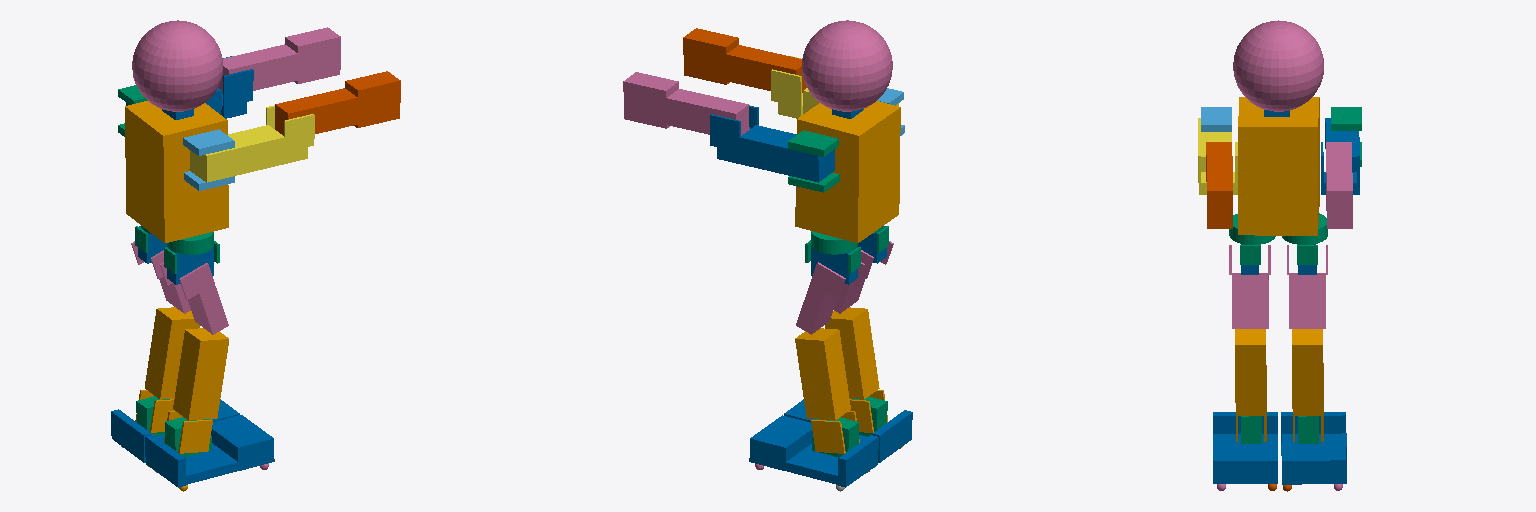
--- What the picture shows (computed from the rendered views, not written in the file) ---
3 views of the same robot in one strip: view 1: azimuth 30°, elevation 25°; view 2: azimuth 150°, elevation 25°; view 3: azimuth 270°, elevation 25° (orthographic).
Model [local-path]/NUgus.urdf with 55 links and 54 joints (20 revolute, 20 continuous, 14 fixed), rooted at base_link, posed every joint at zero.
Visible links, largest first — view 1: base_link, head, right_lower_leg, right_foot [foot], right_lower_arm [arm], right_upper_arm [arm], left_lower_arm [arm], left_lower_leg, right_upper_leg, left_upper_arm [arm], left_foot [foot], right_shoulder [arm] (+5 smaller); view 2: base_link, head, left_lower_leg, left_foot [foot], left_lower_arm [arm], left_upper_arm [arm], right_lower_arm [arm], right_lower_leg, left_upper_leg, right_upper_arm [arm], right_foot [foot], left_shoulder [arm] (+4 smaller); view 3: base_link, head, left_foot [foot], right_foot [foot], left_lower_leg, right_lower_leg, left_lower_arm [arm], right_lower_arm [arm], right_upper_leg, left_upper_leg, left_upper_arm [arm], right_upper_arm [arm] (+6 smaller).
Boxes of the visible links, x1=… form: base_link: x1=125, y1=101, x2=228, y2=242; head: x1=132, y1=20, x2=222, y2=111; right_lower_leg: x1=164, y1=328, x2=228, y2=453; right_foot [foot]: x1=145, y1=415, x2=274, y2=487; right_lower_arm [arm]: x1=275, y1=71, x2=400, y2=135; right_upper_arm [arm]: x1=189, y1=105, x2=314, y2=182; left_lower_arm [arm]: x1=218, y1=27, x2=340, y2=92; left_lower_leg: x1=135, y1=307, x2=199, y2=432; right_upper_leg: x1=160, y1=262, x2=228, y2=334; left_upper_arm [arm]: x1=126, y1=56, x2=253, y2=118; left_foot [foot]: x1=111, y1=399, x2=239, y2=462; right_shoulder [arm]: x1=183, y1=129, x2=234, y2=190; base_link: x1=795, y1=101, x2=900, y2=242; head: x1=802, y1=20, x2=892, y2=111; left_lower_leg: x1=795, y1=328, x2=859, y2=453; left_foot [foot]: x1=749, y1=415, x2=878, y2=487; left_lower_arm [arm]: x1=623, y1=72, x2=749, y2=135; left_upper_arm [arm]: x1=710, y1=105, x2=834, y2=182; right_lower_arm [arm]: x1=683, y1=28, x2=806, y2=92; right_lower_leg: x1=825, y1=307, x2=887, y2=432; left_upper_leg: x1=796, y1=262, x2=864, y2=334; right_upper_arm [arm]: x1=771, y1=56, x2=898, y2=118; right_foot [foot]: x1=784, y1=399, x2=912, y2=462; left_shoulder [arm]: x1=788, y1=130, x2=839, y2=192; base_link: x1=1238, y1=97, x2=1319, y2=235; head: x1=1233, y1=20, x2=1323, y2=111; left_foot [foot]: x1=1281, y1=412, x2=1346, y2=484; right_foot [foot]: x1=1213, y1=412, x2=1277, y2=483; left_lower_leg: x1=1292, y1=329, x2=1323, y2=441; right_lower_leg: x1=1235, y1=329, x2=1266, y2=441; left_lower_arm [arm]: x1=1326, y1=142, x2=1352, y2=228; right_lower_arm [arm]: x1=1206, y1=142, x2=1232, y2=228; right_upper_leg: x1=1229, y1=245, x2=1270, y2=328; left_upper_leg: x1=1287, y1=245, x2=1327, y2=328; left_upper_arm [arm]: x1=1321, y1=118, x2=1359, y2=194; right_upper_arm [arm]: x1=1198, y1=118, x2=1237, y2=194.
Size in the robot's own frame: 0.5037 by 0.3151 by 0.9331 metres.
Geometry: primitives only (box / cylinder / sphere), no mesh files.

robot.urdf — [local-path]/NUgus.urdf:
<?xml version="1.0"?>
<robot name="[local-path]/NUgus.urdf" xmlns:xacro="http://ros.org/wiki/xacro">
  <link name="base_link">
    <visual>
      <origin xyz="-0.001241 0.000021 0.115538" rpy="3.141281 0.014529 3.12021"/>
      <geometry>
        <box size="0.140936 0.154 0.229"/>
      </geometry>
    </visual>
    <collision>
      <origin xyz="-0.001241 0.000021 0.115538" rpy="3.141281 0.014529 3.12021"/>
      <geometry>
        <box size="0.140936 0.154 0.229"/>
      </geometry>
    </collision>
  </link>
  <link name="gyroscope">
  </link>
  <joint name="base_link_gyroscope_joint" type="fixed">
    <parent link="base_link"/>
    <child link="gyroscope"/>
    <origin xyz="0 0 0.2" rpy="0 0 0"/>
  </joint>
  <link name="accelerometer">
  </link>
  <joint name="base_link_accelerometer_joint" type="fixed">
    <parent link="base_link"/>
    <child link="accelerometer"/>
    <origin xyz="0 0 0.2" rpy="0 0 0"/>
  </joint>
  <joint name="neck_yaw" type="revolute">
    <parent link="base_link"/>
    <child link="start_point_212"/>
    <axis xyz="0 0 1"/>
    <limit effort="7.3" lower="-3.14159" upper="3.14159" velocity="8.17"/>
    <origin xyz="0 0 0.26" rpy="0 0 0"/>
  </joint>
  <link name="start_point_212">
  </link>
  <joint name="hingejoint" type="continuous">
    <parent link="start_point_212"/>
    <child link="neck"/>
    <axis xyz="0 0 1"/>
    <origin xyz="0 0 0" rpy="0 0 1.577182"/>
  </joint>
  <link name="neck">
    <visual>
      <origin xyz="-0.002854 -0.000008 -0.017064" rpy="0 0 -1.570796"/>
      <geometry>
        <box size="0.040829 0.050604 0.062673"/>
      </geometry>
    </visual>
    <collision>
      <origin xyz="-0.002854 -0.000008 -0.017064" rpy="0 0 -1.570796"/>
      <geometry>
        <box size="0.040829 0.050604 0.062673"/>
      </geometry>
    </collision>
  </link>
  <joint name="head_pitch" type="revolute">
    <parent link="neck"/>
    <child link="start_point_211"/>
    <axis xyz="1 0 0"/>
    <limit effort="7.3" lower="-3.14159" upper="3.14159" velocity="8.17"/>
    <origin xyz="0 0 0" rpy="0 0 0"/>
  </joint>
  <link name="start_point_211">
  </link>
  <joint name="hingejoint_0" type="continuous">
    <parent link="start_point_211"/>
    <child link="head"/>
    <axis xyz="1 0 0"/>
    <origin xyz="0 0 0" rpy="0.006458 0 0"/>
  </joint>
  <link name="head">
    <visual>
      <origin xyz="0 0 0.069" rpy="0 0 0"/>
      <geometry>
        <sphere radius="0.088"/>
      </geometry>
    </visual>
    <collision>
      <origin xyz="0 0 0.069" rpy="0 0 0"/>
      <geometry>
        <sphere radius="0.088"/>
      </geometry>
    </collision>
  </link>
  <link name="right_camera">
  </link>
  <joint name="head_right_camera_joint" type="fixed">
    <parent link="head"/>
    <child link="right_camera"/>
    <origin xyz="-0.035299 -0.088936 0.071368" rpy="1.585655 -0.048371 -3.125012"/>
  </joint>
  <link name="left_camera">
  </link>
  <joint name="head_left_camera_joint" type="fixed">
    <parent link="head"/>
    <child link="left_camera"/>
    <origin xyz="0.0353 -0.088936 0.071368" rpy="1.585655 -0.048371 -3.125012"/>
  </joint>
  <joint name="left_hip_yaw" type="revolute">
    <parent link="base_link"/>
    <child link="start_point_210"/>
    <axis xyz="0 0 1"/>
    <limit effort="10" lower="-3.14159" upper="3.14159" velocity="5.76"/>
    <origin xyz="0 0.055 0" rpy="0 0 0"/>
  </joint>
  <link name="start_point_210">
  </link>
  <joint name="hingejoint_1" type="continuous">
    <parent link="start_point_210"/>
    <child link="left_hip_yaw"/>
    <axis xyz="0 0 1"/>
    <origin xyz="0 0 0" rpy="0 0 1.571668"/>
  </joint>
  <link name="left_hip_yaw">
    <visual>
      <origin xyz="-0.005 0 -0.015" rpy="3.141593 0 0"/>
      <geometry>
        <cylinder radius="0.045" length="0.03"/>
      </geometry>
    </visual>
    <collision>
      <origin xyz="-0.005 0 -0.015" rpy="3.141593 0 0"/>
      <geometry>
        <cylinder radius="0.045" length="0.03"/>
      </geometry>
    </collision>
    <visual>
      <origin xyz="0 0.0475 -0.05" rpy="0 0 0"/>
      <geometry>
        <box size="0.04 0.005 0.04"/>
      </geometry>
    </visual>
    <collision>
      <origin xyz="0 0.0475 -0.05" rpy="0 0 0"/>
      <geometry>
        <box size="0.04 0.005 0.04"/>
      </geometry>
    </collision>
    <visual>
      <origin xyz="0 -0.0475 -0.05" rpy="0 0 0"/>
      <geometry>
        <box size="0.04 0.005 0.04"/>
      </geometry>
    </visual>
    <collision>
      <origin xyz="0 -0.0475 -0.05" rpy="0 0 0"/>
      <geometry>
        <box size="0.04 0.005 0.04"/>
      </geometry>
    </collision>
  </link>
  <joint name="left_hip_roll [hip]" type="revolute">
    <parent link="left_hip_yaw"/>
    <child link="start_point_206"/>
    <axis xyz="0 -1 0"/>
    <limit effort="10" lower="-3.14159" upper="3.14159" velocity="5.76"/>
    <origin xyz="0 0 -0.06" rpy="0 0 0"/>
  </joint>
  <link name="start_point_206">
  </link>
  <joint name="hingejoint_2" type="continuous">
    <parent link="start_point_206"/>
    <child link="left_hip_roll"/>
    <axis xyz="0 -1 0"/>
    <origin xyz="0 0 0" rpy="0 -0.004548 0"/>
  </joint>
  <link name="left_hip_roll">
    <visual>
      <origin xyz="0 0.0025 -0.0025" rpy="0 0 0"/>
      <geometry>
        <box size="0.035 0.085 0.065"/>
      </geometry>
    </visual>
    <collision>
      <origin xyz="0 0.0025 -0.0025" rpy="0 0 0"/>
      <geometry>
        <box size="0.035 0.085 0.065"/>
      </geometry>
    </collision>
  </link>
  <joint name="left_hip_pitch" type="revolute">
    <parent link="left_hip_roll"/>
    <child link="start_point_209"/>
    <axis xyz="1 0 0"/>
    <limit effort="10" lower="-3.14159" upper="3.14159" velocity="5.76"/>
    <origin xyz="0 -0.01 0.005" rpy="0 0 0"/>
  </joint>
  <link name="start_point_209">
  </link>
  <joint name="hingejoint_3" type="continuous">
    <parent link="start_point_209"/>
    <child link="left_upper_leg"/>
    <axis xyz="1 0 0"/>
    <origin xyz="0 0 0" rpy="-0.055609 0 0"/>
  </joint>
  <link name="left_upper_leg">
    <visual>
      <origin xyz="0 -0.01345 -0.102006" rpy="-0.261799 0 0"/>
      <geometry>
        <box size="0.07 0.037 0.104"/>
      </geometry>
    </visual>
    <collision>
      <origin xyz="0 -0.01345 -0.102006" rpy="-0.261799 0 0"/>
      <geometry>
        <box size="0.07 0.037 0.104"/>
      </geometry>
    </collision>
    <visual>
      <origin xyz="-0.0375 0.021645 -0.031572" rpy="-0.261799 0 0"/>
      <geometry>
        <box size="0.005 0.065 0.05"/>
      </geometry>
    </visual>
    <collision>
      <origin xyz="-0.0375 0.021645 -0.031572" rpy="-0.261799 0 0"/>
      <geometry>
        <box size="0.005 0.065 0.05"/>
      </geometry>
    </collision>
    <visual>
      <origin xyz="0.0375 0.021645 -0.031572" rpy="-0.261799 0 0"/>
      <geometry>
        <box size="0.005 0.065 0.05"/>
      </geometry>
    </visual>
    <collision>
      <origin xyz="0.0375 0.021645 -0.031572" rpy="-0.261799 0 0"/>
      <geometry>
        <box size="0.005 0.065 0.05"/>
      </geometry>
    </collision>
  </link>
  <joint name="left_knee_pitch" type="revolute">
    <parent link="left_upper_leg"/>
    <child link="start_point_208"/>
    <axis xyz="1 0 0"/>
    <limit effort="10" lower="-3.14159" upper="3.14159" velocity="5.76"/>
    <origin xyz="0 0.00924 -0.184766" rpy="0 0 0"/>
  </joint>
  <link name="start_point_208">
  </link>
  <joint name="hingejoint_4" type="continuous">
    <parent link="start_point_208"/>
    <child link="left_lower_leg"/>
    <axis xyz="1 0 0"/>
    <origin xyz="0 0 0" rpy="0.04297 0 0"/>
  </joint>
  <link name="left_lower_leg">
    <visual>
      <origin xyz="0 -0.00999 -0.067253" rpy="0.174533 0 0"/>
      <geometry>
        <box size="0.06 0.065 0.165"/>
      </geometry>
    </visual>
    <collision>
      <origin xyz="0 -0.00999 -0.067253" rpy="0.174533 0 0"/>
      <geometry>
        <box size="0.06 0.065 0.165"/>
      </geometry>
    </collision>
    <visual>
      <origin xyz="-0.0275 0.01951 -0.182253" rpy="0.174533 0 0"/>
      <geometry>
        <box size="0.005 0.065 0.065"/>
      </geometry>
    </visual>
    <collision>
      <origin xyz="-0.0275 0.01951 -0.182253" rpy="0.174533 0 0"/>
      <geometry>
        <box size="0.005 0.065 0.065"/>
      </geometry>
    </collision>
    <visual>
      <origin xyz="0.0275 0.01951 -0.182253" rpy="0.174533 0 0"/>
      <geometry>
        <box size="0.005 0.065 0.065"/>
      </geometry>
    </visual>
    <collision>
      <origin xyz="0.0275 0.01951 -0.182253" rpy="0.174533 0 0"/>
      <geometry>
        <box size="0.005 0.065 0.065"/>
      </geometry>
    </collision>
  </link>
  <joint name="left_ankle_pitch" type="revolute">
    <parent link="left_lower_leg"/>
    <child link="start_point_203"/>
    <axis xyz="1 0 0"/>
    <limit effort="10" lower="-3.14159" upper="3.14159" velocity="5.76"/>
    <origin xyz="0 0.00001 -0.209753" rpy="0 0 0"/>
  </joint>
  <link name="start_point_203">
  </link>
  <joint name="hingejoint_5" type="continuous">
    <parent link="start_point_203"/>
    <child link="left_ankle"/>
    <axis xyz="-1 -0.000002 0"/>
    <origin xyz="0 0 0" rpy="-3.136309 0 -3.141591"/>
  </joint>
  <link name="left_ankle">
    <visual>
      <origin xyz="0 0.02 -0.0175" rpy="0 0 0"/>
      <geometry>
        <box size="0.04 0.08 0.065"/>
      </geometry>
    </visual>
    <collision>
      <origin xyz="0 0.02 -0.0175" rpy="0 0 0"/>
      <geometry>
        <box size="0.04 0.08 0.065"/>
      </geometry>
    </collision>
  </link>
  <joint name="left_ankle_roll" type="revolute">
    <parent link="left_ankle"/>
    <child link="start_point_202"/>
    <axis xyz="0 -1 0"/>
    <limit effort="10" lower="-3.14159" upper="3.14159" velocity="5.76"/>
    <origin xyz="0 0.04 0" rpy="0 0.000001 0"/>
  </joint>
  <link name="start_point_202">
  </link>
  <joint name="hingejoint_6" type="continuous">
    <parent link="start_point_202"/>
    <child link="left_foot [foot]"/>
    <axis xyz="0.000002 -1 0.000002"/>
    <origin xyz="0 0 0" rpy="-3.141591 0.004152 -3.141591"/>
  </joint>
  <link name="left_foot [foot]">
    <visual>
      <origin xyz="0.0105 0.037 -0.017" rpy="0 0 0"/>
      <geometry>
        <box size="0.125 0.0175 0.0585"/>
      </geometry>
    </visual>
    <collision>
      <origin xyz="0.0105 0.037 -0.017" rpy="0 0 0"/>
      <geometry>
        <box size="0.125 0.0175 0.0585"/>
      </geometry>
    </collision>
    <visual>
      <origin xyz="0.011 -0.128 -0.02" rpy="0 0 0"/>
      <geometry>
        <box size="0.125 0.08 0.05"/>
      </geometry>
    </visual>
    <collision>
      <origin xyz="0.011 -0.128 -0.02" rpy="0 0 0"/>
      <geometry>
        <box size="0.125 0.08 0.05"/>
      </geometry>
    </collision>
    <visual>
      <origin xyz="0.011 -0.028 -0.035" rpy="0 0 0"/>
      <geometry>
        <box size="0.125 0.12 0.01875"/>
      </geometry>
    </visual>
    <collision>
      <origin xyz="0.011 -0.028 -0.035" rpy="0 0 0"/>
      <geometry>
        <box size="0.125 0.12 0.01875"/>
      </geometry>
    </collision>
  </link>
  <link name="left_touch_sensor_fr">
    <visual>
      <origin xyz="0 0 0.0056" rpy="3.110796 0 0"/>
      <geometry>
        <cylinder radius="0.009" length="0.001"/>
      </geometry>
    </visual>
    <collision>
      <origin xyz="0 0 0.0056" rpy="3.110796 0 0"/>
      <geometry>
        <cylinder radius="0.009" length="0.001"/>
      </geometry>
    </collision>
    <visual>
      <origin xyz="0 0.000015 0.0061" rpy="3.110796 0 0"/>
      <geometry>
        <sphere radius="0.009"/>
      </geometry>
    </visual>
    <collision>
      <origin xyz="0 0.000015 0.0061" rpy="3.110796 0 0"/>
      <geometry>
        <sphere radius="0.009"/>
      </geometry>
    </collision>
    <visual>
      <origin xyz="0 -0.000015 0.0051" rpy="3.110796 0 0"/>
      <geometry>
        <sphere radius="0.009"/>
      </geometry>
    </visual>
    <collision>
      <origin xyz="0 -0.000015 0.0051" rpy="3.110796 0 0"/>
      <geometry>
        <sphere radius="0.009"/>
      </geometry>
    </collision>
  </link>
  <joint name="left_foot [foot]_left_touch_sensor_fr_joint" type="fixed">
    <parent link="left_foot [foot]"/>
    <child link="left_touch_sensor_fr"/>
    <origin xyz="-0.041 -0.154 -0.060997" rpy="0 0 0"/>
  </joint>
  <link name="left_touch_sensor_fl">
    <visual>
      <origin xyz="0 0 0.0056" rpy="3.110796 0 0"/>
      <geometry>
        <cylinder radius="0.009" length="0.001"/>
      </geometry>
    </visual>
    <collision>
      <origin xyz="0 0 0.0056" rpy="3.110796 0 0"/>
      <geometry>
        <cylinder radius="0.009" length="0.001"/>
      </geometry>
    </collision>
    <visual>
      <origin xyz="0 0.000015 0.0061" rpy="3.110796 0 0"/>
      <geometry>
        <sphere radius="0.009"/>
      </geometry>
    </visual>
    <collision>
      <origin xyz="0 0.000015 0.0061" rpy="3.110796 0 0"/>
      <geometry>
        <sphere radius="0.009"/>
      </geometry>
    </collision>
    <visual>
      <origin xyz="0 -0.000015 0.0051" rpy="3.110796 0 0"/>
      <geometry>
        <sphere radius="0.009"/>
      </geometry>
    </visual>
    <collision>
      <origin xyz="0 -0.000015 0.0051" rpy="3.110796 0 0"/>
      <geometry>
        <sphere radius="0.009"/>
      </geometry>
    </collision>
  </link>
  <joint name="left_foot [foot]_left_touch_sensor_fl_joint" type="fixed">
    <parent link="left_foot [foot]"/>
    <child link="left_touch_sensor_fl"/>
    <origin xyz="0.057001 -0.154 -0.060998" rpy="0 0 0"/>
  </joint>
  <link name="left_touch_sensor_bl">
    <visual>
      <origin xyz="0 0 0.0056" rpy="3.110796 0 0"/>
      <geometry>
        <cylinder radius="0.009" length="0.001"/>
      </geometry>
    </visual>
    <collision>
      <origin xyz="0 0 0.0056" rpy="3.110796 0 0"/>
      <geometry>
        <cylinder radius="0.009" length="0.001"/>
      </geometry>
    </collision>
    <visual>
      <origin xyz="0 0.000015 0.0061" rpy="3.110796 0 0"/>
      <geometry>
        <sphere radius="0.009"/>
      </geometry>
    </visual>
    <collision>
      <origin xyz="0 0.000015 0.0061" rpy="3.110796 0 0"/>
      <geometry>
        <sphere radius="0.009"/>
      </geometry>
    </collision>
    <visual>
      <origin xyz="0 -0.000015 0.0051" rpy="3.110796 0 0"/>
      <geometry>
        <sphere radius="0.009"/>
      </geometry>
    </visual>
    <collision>
      <origin xyz="0 -0.000015 0.0051" rpy="3.110796 0 0"/>
      <geometry>
        <sphere radius="0.009"/>
      </geometry>
    </collision>
  </link>
  <joint name="left_foot [foot]_left_touch_sensor_bl_joint" type="fixed">
    <parent link="left_foot [foot]"/>
    <child link="left_touch_sensor_bl"/>
    <origin xyz="0.057 0.024999 -0.060997" rpy="0 0 0"/>
  </joint>
  <link name="left_touch_sensor_br">
    <visual>
      <origin xyz="0 0 0.0056" rpy="3.110796 0 0"/>
      <geometry>
        <cylinder radius="0.009" length="0.001"/>
      </geometry>
    </visual>
    <collision>
      <origin xyz="0 0 0.0056" rpy="3.110796 0 0"/>
      <geometry>
        <cylinder radius="0.009" length="0.001"/>
      </geometry>
    </collision>
    <visual>
      <origin xyz="0 0.000015 0.0061" rpy="3.110796 0 0"/>
      <geometry>
        <sphere radius="0.009"/>
      </geometry>
    </visual>
    <collision>
      <origin xyz="0 0.000015 0.0061" rpy="3.110796 0 0"/>
      <geometry>
        <sphere radius="0.009"/>
      </geometry>
    </collision>
    <visual>
      <origin xyz="0 -0.000015 0.0051" rpy="3.110796 0 0"/>
      <geometry>
        <sphere radius="0.009"/>
      </geometry>
    </visual>
    <collision>
      <origin xyz="0 -0.000015 0.0051" rpy="3.110796 0 0"/>
      <geometry>
        <sphere radius="0.009"/>
      </geometry>
    </collision>
  </link>
  <joint name="left_foot [foot]_left_touch_sensor_br_joint" type="fixed">
    <parent link="left_foot [foot]"/>
    <child link="left_touch_sensor_br"/>
    <origin xyz="-0.041001 0.025 -0.060996" rpy="0 0 0"/>
  </joint>
  <joint name="right_hip_yaw" type="revolute">
    <parent link="base_link"/>
    <child link="start_point_207"/>
    <axis xyz="0 0 1"/>
    <limit effort="10" lower="-3.14159" upper="3.14159" velocity="5.76"/>
    <origin xyz="0 -0.055 0" rpy="0 0 0"/>
  </joint>
  <link name="start_point_207">
  </link>
  <joint name="hingejoint_7" type="continuous">
    <parent link="start_point_207"/>
    <child link="right_hip_yaw"/>
    <axis xyz="0 0 1"/>
    <origin xyz="0 0 0" rpy="0 0 1.571725"/>
  </joint>
  <link name="right_hip_yaw">
    <visual>
      <origin xyz="0.005 0 -0.015" rpy="3.141593 0 0"/>
      <geometry>
        <cylinder radius="0.045" length="0.03"/>
      </geometry>
    </visual>
    <collision>
      <origin xyz="0.005 0 -0.015" rpy="3.141593 0 0"/>
      <geometry>
        <cylinder radius="0.045" length="0.03"/>
      </geometry>
    </collision>
    <visual>
      <origin xyz="0 0.0475 -0.05" rpy="0 0 0"/>
      <geometry>
        <box size="0.04 0.005 0.04"/>
      </geometry>
    </visual>
    <collision>
      <origin xyz="0 0.0475 -0.05" rpy="0 0 0"/>
      <geometry>
        <box size="0.04 0.005 0.04"/>
      </geometry>
    </collision>
    <visual>
      <origin xyz="0 -0.0475 -0.05" rpy="0 0 0"/>
      <geometry>
        <box size="0.04 0.005 0.04"/>
      </geometry>
    </visual>
    <collision>
      <origin xyz="0 -0.0475 -0.05" rpy="0 0 0"/>
      <geometry>
        <box size="0.04 0.005 0.04"/>
      </geometry>
    </collision>
  </link>
  <joint name="right_hip_roll [hip]" type="revolute">
    <parent link="right_hip_yaw"/>
    <child link="start_point_206_8"/>
    <axis xyz="0 -1 0"/>
    <limit effort="10" lower="-3.14159" upper="3.14159" velocity="5.76"/>
    <origin xyz="0 0 -0.06" rpy="0 0 0"/>
  </joint>
  <link name="start_point_206_8">
  </link>
  <joint name="hingejoint_9" type="continuous">
    <parent link="start_point_206_8"/>
    <child link="right_hip_roll"/>
    <axis xyz="0 -1 0"/>
    <origin xyz="0 0 0" rpy="0 -0.005921 0"/>
  </joint>
  <link name="right_hip_roll">
    <visual>
      <origin xyz="0 0.0025 -0.0025" rpy="0 0 0"/>
      <geometry>
        <box size="0.035 0.085 0.065"/>
      </geometry>
    </visual>
    <collision>
      <origin xyz="0 0.0025 -0.0025" rpy="0 0 0"/>
      <geometry>
        <box size="0.035 0.085 0.065"/>
      </geometry>
    </collision>
  </link>
  <joint name="right_hip_pitch" type="revolute">
    <parent link="right_hip_roll"/>
    <child link="start_point_205"/>
    <axis xyz="1 0 0"/>
    <limit effort="10" lower="-3.14159" upper="3.14159" velocity="5.76"/>
    <origin xyz="0 -0.01 0.015" rpy="0 0 0"/>
  </joint>
  <link name="start_point_205">
  </link>
  <joint name="hingejoint_10" type="continuous">
    <parent link="start_point_205"/>
    <child link="right_upper_leg"/>
    <axis xyz="1 0 0"/>
    <origin xyz="0 0 0" rpy="-0.055069 0 0"/>
  </joint>
  <link name="right_upper_leg">
    <visual>
      <origin xyz="0 -0.01295 -0.111994" rpy="-0.261799 0 0"/>
      <geometry>
        <box size="0.07 0.037 0.104"/>
      </geometry>
    </visual>
    <collision>
      <origin xyz="0 -0.01295 -0.111994" rpy="-0.261799 0 0"/>
      <geometry>
        <box size="0.07 0.037 0.104"/>
      </geometry>
    </collision>
    <visual>
      <origin xyz="-0.0375 0.022145 -0.04156" rpy="-0.261799 0 0"/>
      <geometry>
        <box size="0.005 0.065 0.05"/>
      </geometry>
    </visual>
    <collision>
      <origin xyz="-0.0375 0.022145 -0.04156" rpy="-0.261799 0 0"/>
      <geometry>
        <box size="0.005 0.065 0.05"/>
      </geometry>
    </collision>
    <visual>
      <origin xyz="0.0375 0.022145 -0.04156" rpy="-0.261799 0 0"/>
      <geometry>
        <box size="0.005 0.065 0.05"/>
      </geometry>
    </visual>
    <collision>
      <origin xyz="0.0375 0.022145 -0.04156" rpy="-0.261799 0 0"/>
      <geometry>
        <box size="0.005 0.065 0.05"/>
      </geometry>
    </collision>
  </link>
  <joint name="right_knee_pitch" type="revolute">
    <parent link="right_upper_leg"/>
    <child link="start_point_204"/>
    <axis xyz="1 0 0"/>
    <limit effort="10" lower="-3.14159" upper="3.14159" velocity="5.76"/>
    <origin xyz="0 0.01024 -0.204744" rpy="0 0 0"/>
  </joint>
  <link name="start_point_204">
  </link>
  <joint name="hingejoint_11" type="continuous">
    <parent link="start_point_204"/>
    <child link="right_lower_leg"/>
    <axis xyz="1 0 0"/>
    <origin xyz="0 0 0" rpy="0.041619 0 0"/>
  </joint>
  <link name="right_lower_leg">
    <visual>
      <origin xyz="0 -0.00999 -0.05725" rpy="0.174533 0 0"/>
      <geometry>
        <box size="0.06 0.065 0.165"/>
      </geometry>
    </visual>
    <collision>
      <origin xyz="0 -0.00999 -0.05725" rpy="0.174533 0 0"/>
      <geometry>
        <box size="0.06 0.065 0.165"/>
      </geometry>
    </collision>
    <visual>
      <origin xyz="-0.0275 0.01951 -0.17225" rpy="0.174533 0 0"/>
      <geometry>
        <box size="0.005 0.065 0.065"/>
      </geometry>
    </visual>
    <collision>
      <origin xyz="-0.0275 0.01951 -0.17225" rpy="0.174533 0 0"/>
      <geometry>
        <box size="0.005 0.065 0.065"/>
      </geometry>
    </collision>
    <visual>
      <origin xyz="0.0275 0.01951 -0.17225" rpy="0.174533 0 0"/>
      <geometry>
        <box size="0.005 0.065 0.065"/>
      </geometry>
    </visual>
    <collision>
      <origin xyz="0.0275 0.01951 -0.17225" rpy="0.174533 0 0"/>
      <geometry>
        <box size="0.005 0.065 0.065"/>
      </geometry>
    </collision>
  </link>
  <joint name="right_ankle_pitch" type="revolute">
    <parent link="right_lower_leg"/>
    <child link="start_point_203_12"/>
    <axis xyz="1 0 0"/>
    <limit effort="10" lower="-3.14159" upper="3.14159" velocity="5.76"/>
    <origin xyz="0 0.00001 -0.19975" rpy="0 0 0"/>
  </joint>
  <link name="start_point_203_12">
  </link>
  <joint name="hingejoint_13" type="continuous">
    <parent link="start_point_203_12"/>
    <child link="right_ankle"/>
    <axis xyz="-1 -0.000002 0"/>
    <origin xyz="0 0 0" rpy="-3.13626 0 -3.141591"/>
  </joint>
  <link name="right_ankle">
    <visual>
      <origin xyz="0 0.02 -0.0175" rpy="0 0 0"/>
      <geometry>
        <box size="0.04 0.08 0.065"/>
      </geometry>
    </visual>
    <collision>
      <origin xyz="0 0.02 -0.0175" rpy="0 0 0"/>
      <geometry>
        <box size="0.04 0.08 0.065"/>
      </geometry>
    </collision>
  </link>
  <joint name="right_ankle_roll" type="revolute">
    <parent link="right_ankle"/>
    <child link="start_point_202_14"/>
    <axis xyz="0 -1 0"/>
    <limit effort="10" lower="-3.14159" upper="3.14159" velocity="5.76"/>
    <origin xyz="0 0.04 0" rpy="0 0.000001 0"/>
  </joint>
  <link name="start_point_202_14">
  </link>
  <joint name="hingejoint_15" type="continuous">
    <parent link="start_point_202_14"/>
    <child link="right_foot [foot]"/>
    <axis xyz="0.000002 -1 0.000002"/>
    <origin xyz="0 0 0" rpy="-3.141591 -0.005659 -3.141591"/>
  </joint>
  <link name="right_foot [foot]">
    <visual>
      <origin xyz="-0.0105 0.037 -0.017" rpy="0 0 0"/>
      <geometry>
        <box size="0.125 0.0175 0.0585"/>
      </geometry>
    </visual>
    <collision>
      <origin xyz="-0.0105 0.037 -0.017" rpy="0 0 0"/>
      <geometry>
        <box size="0.125 0.0175 0.0585"/>
      </geometry>
    </collision>
    <visual>
      <origin xyz="-0.011 -0.128 -0.02" rpy="0 0 0"/>
      <geometry>
        <box size="0.125 0.08 0.05"/>
      </geometry>
    </visual>
    <collision>
      <origin xyz="-0.011 -0.128 -0.02" rpy="0 0 0"/>
      <geometry>
        <box size="0.125 0.08 0.05"/>
      </geometry>
    </collision>
    <visual>
      <origin xyz="-0.011 -0.028 -0.035" rpy="0 0 0"/>
      <geometry>
        <box size="0.125 0.12 0.01875"/>
      </geometry>
    </visual>
    <collision>
      <origin xyz="-0.011 -0.028 -0.035" rpy="0 0 0"/>
      <geometry>
        <box size="0.125 0.12 0.01875"/>
      </geometry>
    </collision>
  </link>
  <link name="right_touch_sensor_fl">
    <visual>
      <origin xyz="0 0 0.0056" rpy="3.110796 0 0"/>
      <geometry>
        <cylinder radius="0.009" length="0.001"/>
      </geometry>
    </visual>
    <collision>
      <origin xyz="0 0 0.0056" rpy="3.110796 0 0"/>
      <geometry>
        <cylinder radius="0.009" length="0.001"/>
      </geometry>
    </collision>
    <visual>
      <origin xyz="0 0.000015 0.0061" rpy="3.110796 0 0"/>
      <geometry>
        <sphere radius="0.009"/>
      </geometry>
    </visual>
    <collision>
      <origin xyz="0 0.000015 0.0061" rpy="3.110796 0 0"/>
      <geometry>
        <sphere radius="0.009"/>
      </geometry>
    </collision>
    <visual>
      <origin xyz="0 -0.000015 0.0051" rpy="3.110796 0 0"/>
      <geometry>
        <sphere radius="0.009"/>
      </geometry>
    </visual>
    <collision>
      <origin xyz="0 -0.000015 0.0051" rpy="3.110796 0 0"/>
      <geometry>
        <sphere radius="0.009"/>
      </geometry>
    </collision>
  </link>
  <joint name="right_foot [foot]_right_touch_sensor_fl_joint" type="fixed">
    <parent link="right_foot [foot]"/>
    <child link="right_touch_sensor_fl"/>
    <origin xyz="0.0409 -0.154 -0.060997" rpy="0 0 0"/>
  </joint>
  <link name="right_touch_sensor_fr">
    <visual>
      <origin xyz="0 0 0.0056" rpy="3.110796 0 0"/>
      <geometry>
        <cylinder radius="0.009" length="0.001"/>
      </geometry>
    </visual>
    <collision>
      <origin xyz="0 0 0.0056" rpy="3.110796 0 0"/>
      <geometry>
        <cylinder radius="0.009" length="0.001"/>
      </geometry>
    </collision>
    <visual>
      <origin xyz="0 0.000015 0.0061" rpy="3.110796 0 0"/>
      <geometry>
        <sphere radius="0.009"/>
      </geometry>
    </visual>
    <collision>
      <origin xyz="0 0.000015 0.0061" rpy="3.110796 0 0"/>
      <geometry>
        <sphere radius="0.009"/>
      </geometry>
    </collision>
    <visual>
      <origin xyz="0 -0.000015 0.0051" rpy="3.110796 0 0"/>
      <geometry>
        <sphere radius="0.009"/>
      </geometry>
    </visual>
    <collision>
      <origin xyz="0 -0.000015 0.0051" rpy="3.110796 0 0"/>
      <geometry>
        <sphere radius="0.009"/>
      </geometry>
    </collision>
  </link>
  <joint name="right_foot [foot]_right_touch_sensor_fr_joint" type="fixed">
    <parent link="right_foot [foot]"/>
    <child link="right_touch_sensor_fr"/>
    <origin xyz="-0.0575 -0.154 -0.060997" rpy="0 0 0"/>
  </joint>
  <link name="right_touch_sensor_bl">
    <visual>
      <origin xyz="0 0 0.0056" rpy="3.110796 0 0"/>
      <geometry>
        <cylinder radius="0.009" length="0.001"/>
      </geometry>
    </visual>
    <collision>
      <origin xyz="0 0 0.0056" rpy="3.110796 0 0"/>
      <geometry>
        <cylinder radius="0.009" length="0.001"/>
      </geometry>
    </collision>
    <visual>
      <origin xyz="0 0.000015 0.0061" rpy="3.110796 0 0"/>
      <geometry>
        <sphere radius="0.009"/>
      </geometry>
    </visual>
    <collision>
      <origin xyz="0 0.000015 0.0061" rpy="3.110796 0 0"/>
      <geometry>
        <sphere radius="0.009"/>
      </geometry>
    </collision>
    <visual>
      <origin xyz="0 -0.000015 0.0051" rpy="3.110796 0 0"/>
      <geometry>
        <sphere radius="0.009"/>
      </geometry>
    </visual>
    <collision>
      <origin xyz="0 -0.000015 0.0051" rpy="3.110796 0 0"/>
      <geometry>
        <sphere radius="0.009"/>
      </geometry>
    </collision>
  </link>
  <joint name="right_foot [foot]_right_touch_sensor_bl_joint" type="fixed">
    <parent link="right_foot [foot]"/>
    <child link="right_touch_sensor_bl"/>
    <origin xyz="0.041 0.025 -0.060996" rpy="0 0 0"/>
  </joint>
  <link name="right_touch_sensor_br">
    <visual>
      <origin xyz="0 0 0.0056" rpy="3.110796 0 0"/>
      <geometry>
        <cylinder radius="0.009" length="0.001"/>
      </geometry>
    </visual>
    <collision>
      <origin xyz="0 0 0.0056" rpy="3.110796 0 0"/>
      <geometry>
        <cylinder radius="0.009" length="0.001"/>
      </geometry>
    </collision>
    <visual>
      <origin xyz="0 0.000015 0.0061" rpy="3.110796 0 0"/>
      <geometry>
        <sphere radius="0.009"/>
      </geometry>
    </visual>
    <collision>
      <origin xyz="0 0.000015 0.0061" rpy="3.110796 0 0"/>
      <geometry>
        <sphere radius="0.009"/>
      </geometry>
    </collision>
    <visual>
      <origin xyz="0 -0.000015 0.0051" rpy="3.110796 0 0"/>
      <geometry>
        <sphere radius="0.009"/>
      </geometry>
    </visual>
    <collision>
      <origin xyz="0 -0.000015 0.0051" rpy="3.110796 0 0"/>
      <geometry>
        <sphere radius="0.009"/>
      </geometry>
    </collision>
  </link>
  <joint name="right_foot [foot]_right_touch_sensor_br_joint" type="fixed">
    <parent link="right_foot [foot]"/>
    <child link="right_touch_sensor_br"/>
    <origin xyz="-0.0575 0.025 -0.060996" rpy="0 0 0"/>
  </joint>
  <joint name="left_shoulder_pitch [shoulder]" type="revolute">
    <parent link="base_link"/>
    <child link="start_point_201"/>
    <axis xyz="0 1 0"/>
    <limit effort="7.3" lower="-3.14159" upper="3.14159" velocity="8.17"/>
    <origin xyz="0.005 0.115 0.18" rpy="0 0 0"/>
  </joint>
  <link name="start_point_201">
  </link>
  <joint name="hingejoint_16" type="continuous">
    <parent link="start_point_201"/>
    <child link="left_shoulder [arm]"/>
    <axis xyz="1 0.000001 0.000006"/>
    <origin xyz="0 0 0" rpy="-1.562817 -0.000001 1.57079"/>
  </joint>
  <link name="left_shoulder [arm]">
    <visual>
      <origin xyz="0.015 0.0386 0.005" rpy="0 0 0"/>
      <geometry>
        <box size="0.06 0.015 0.08"/>
      </geometry>
    </visual>
    <collision>
      <origin xyz="0.015 0.0386 0.005" rpy="0 0 0"/>
      <geometry>
        <box size="0.06 0.015 0.08"/>
      </geometry>
    </collision>
    <visual>
      <origin xyz="0.015 -0.0368 0.005" rpy="0 0 0"/>
      <geometry>
        <box size="0.06 0.015 0.08"/>
      </geometry>
    </visual>
    <collision>
      <origin xyz="0.015 -0.0368 0.005" rpy="0 0 0"/>
      <geometry>
        <box size="0.06 0.015 0.08"/>
      </geometry>
    </collision>
  </link>
  <joint name="left_shoulder_roll" type="revolute">
    <parent link="left_shoulder [arm]"/>
    <child link="start_point_200"/>
    <axis xyz="0 -1 0"/>
    <limit effort="7.3" lower="-3.14159" upper="3.14159" velocity="8.17"/>
    <origin xyz="0.015 0 0.005" rpy="0 0 0"/>
  </joint>
  <link name="start_point_200">
  </link>
  <joint name="hingejoint_17" type="continuous">
    <parent link="start_point_200"/>
    <child link="left_upper_arm [arm]"/>
    <axis xyz="0 -0.000006 1"/>
    <origin xyz="0 0 0" rpy="1.57079 -0.005614 0"/>
  </joint>
  <link name="left_upper_arm [arm]">
    <visual>
      <origin xyz="-0.0075 -0.0625 -0.0015" rpy="0 0 0"/>
      <geometry>
        <box size="0.065 0.175 0.057"/>
      </geometry>
    </visual>
    <collision>
      <origin xyz="-0.0075 -0.0625 -0.0015" rpy="0 0 0"/>
      <geometry>
        <box size="0.065 0.175 0.057"/>
      </geometry>
    </collision>
    <visual>
      <origin xyz="-0.0125 -0.175 -0.0175" rpy="0 0 0"/>
      <geometry>
        <box size="0.075 0.05 0.025"/>
      </geometry>
    </visual>
    <collision>
      <origin xyz="-0.0125 -0.175 -0.0175" rpy="0 0 0"/>
      <geometry>
        <box size="0.075 0.05 0.025"/>
      </geometry>
    </collision>
    <visual>
      <origin xyz="-0.0475 -0.1825 0.0275" rpy="0 0 0"/>
      <geometry>
        <box size="0.005 0.065 0.065"/>
      </geometry>
    </visual>
    <collision>
      <origin xyz="-0.0475 -0.1825 0.0275" rpy="0 0 0"/>
      <geometry>
        <box size="0.005 0.065 0.065"/>
      </geometry>
    </collision>
    <visual>
      <origin xyz="0.0225 -0.1825 0.0275" rpy="0 0 0"/>
      <geometry>
        <box size="0.005 0.065 0.065"/>
      </geometry>
    </visual>
    <collision>
      <origin xyz="0.0225 -0.1825 0.0275" rpy="0 0 0"/>
      <geometry>
        <box size="0.005 0.065 0.065"/>
      </geometry>
    </collision>
  </link>
  <joint name="left_elbow_pitch" type="revolute">
    <parent link="left_upper_arm [arm]"/>
    <child link="start_point_199"/>
    <axis xyz="1 0 0"/>
    <limit effort="7.3" lower="-3.14159" upper="3.14159" velocity="8.17"/>
    <origin xyz="-0.01 -0.19 0.03999" rpy="0 0 0"/>
  </joint>
  <link name="start_point_199">
  </link>
  <joint name="hingejoint_18" type="continuous">
    <parent link="start_point_199"/>
    <child link="left_lower_arm [arm]"/>
    <axis xyz="1 0 0"/>
    <origin xyz="0 0 0" rpy="0.006685 0 0"/>
  </joint>
  <link name="left_lower_arm [arm]">
    <visual>
      <origin xyz="-0.005 -0.0525 -0.0015" rpy="0 0 0"/>
      <geometry>
        <box size="0.05 0.155 0.057"/>
      </geometry>
    </visual>
    <collision>
      <origin xyz="-0.005 -0.0525 -0.0015" rpy="0 0 0"/>
      <geometry>
        <box size="0.05 0.155 0.057"/>
      </geometry>
    </collision>
    <visual>
      <origin xyz="-0.005 -0.1775 0.002" rpy="0 0 0"/>
      <geometry>
        <box size="0.05 0.095 0.08"/>
      </geometry>
    </visual>
    <collision>
      <origin xyz="-0.005 -0.1775 0.002" rpy="0 0 0"/>
      <geometry>
        <box size="0.05 0.095 0.08"/>
      </geometry>
    </collision>
  </link>
  <link name="left_hand [hand]">
  </link>
  <joint name="left_lower_arm [arm]_left_hand [hand]_joint" type="fixed">
    <parent link="left_lower_arm [arm]"/>
    <child link="left_hand [hand]"/>
    <origin xyz="0 -0.225 0.014" rpy="0 0 0"/>
  </joint>
  <joint name="right_shoulder_pitch [shoulder]" type="revolute">
    <parent link="base_link"/>
    <child link="start_point_198"/>
    <axis xyz="0 1 0"/>
    <limit effort="7.3" lower="-3.14159" upper="3.14159" velocity="8.17"/>
    <origin xyz="0.005 -0.115 0.18" rpy="0 0 0"/>
  </joint>
  <link name="start_point_198">
  </link>
  <joint name="hingejoint_19" type="continuous">
    <parent link="start_point_198"/>
    <child link="right_shoulder [arm]"/>
    <axis xyz="1 0.000001 0.000006"/>
    <origin xyz="0 0 0" rpy="-1.562479 -0.000001 1.57079"/>
  </joint>
  <link name="right_shoulder [arm]">
    <visual>
      <origin xyz="-0.008 0.0375 0.005" rpy="0 0 0"/>
      <geometry>
        <box size="0.06 0.015 0.08"/>
      </geometry>
    </visual>
    <collision>
      <origin xyz="-0.008 0.0375 0.005" rpy="0 0 0"/>
      <geometry>
        <box size="0.06 0.015 0.08"/>
      </geometry>
    </collision>
    <visual>
      <origin xyz="-0.005 -0.035 0.005" rpy="0 0 0"/>
      <geometry>
        <box size="0.06 0.015 0.08"/>
      </geometry>
    </visual>
    <collision>
      <origin xyz="-0.005 -0.035 0.005" rpy="0 0 0"/>
      <geometry>
        <box size="0.06 0.015 0.08"/>
      </geometry>
    </collision>
  </link>
  <joint name="right_shoulder_roll" type="revolute">
    <parent link="right_shoulder [arm]"/>
    <child link="start_point_197"/>
    <axis xyz="0 -1 0"/>
    <limit effort="7.3" lower="-3.14159" upper="3.14159" velocity="8.17"/>
    <origin xyz="-0.015 0 0.005" rpy="0 0 0"/>
  </joint>
  <link name="start_point_197">
  </link>
  <joint name="hingejoint_20" type="continuous">
    <parent link="start_point_197"/>
    <child link="right_upper_arm [arm]"/>
    <axis xyz="0 -0.000006 1"/>
    <origin xyz="0 0 0" rpy="1.57079 -0.004769 0"/>
  </joint>
  <link name="right_upper_arm [arm]">
    <visual>
      <origin xyz="0.0075 -0.0625 -0.0015" rpy="0 0 0"/>
      <geometry>
        <box size="0.065 0.175 0.057"/>
      </geometry>
    </visual>
    <collision>
      <origin xyz="0.0075 -0.0625 -0.0015" rpy="0 0 0"/>
      <geometry>
        <box size="0.065 0.175 0.057"/>
      </geometry>
    </collision>
    <visual>
      <origin xyz="0.0125 -0.175 -0.0175" rpy="0 0 0"/>
      <geometry>
        <box size="0.075 0.05 0.025"/>
      </geometry>
    </visual>
    <collision>
      <origin xyz="0.0125 -0.175 -0.0175" rpy="0 0 0"/>
      <geometry>
        <box size="0.075 0.05 0.025"/>
      </geometry>
    </collision>
    <visual>
      <origin xyz="0.0475 -0.1825 0.0275" rpy="0 0 0"/>
      <geometry>
        <box size="0.005 0.065 0.065"/>
      </geometry>
    </visual>
    <collision>
      <origin xyz="0.0475 -0.1825 0.0275" rpy="0 0 0"/>
      <geometry>
        <box size="0.005 0.065 0.065"/>
      </geometry>
    </collision>
    <visual>
      <origin xyz="-0.0225 -0.1825 0.0275" rpy="0 0 0"/>
      <geometry>
        <box size="0.005 0.065 0.065"/>
      </geometry>
    </visual>
    <collision>
      <origin xyz="-0.0225 -0.1825 0.0275" rpy="0 0 0"/>
      <geometry>
        <box size="0.005 0.065 0.065"/>
      </geometry>
    </collision>
  </link>
  <joint name="right_elbow_pitch" type="revolute">
    <parent link="right_upper_arm [arm]"/>
    <child link="start_point_196"/>
    <axis xyz="1 0 0"/>
    <limit effort="7.3" lower="-3.14159" upper="3.14159" velocity="8.17"/>
    <origin xyz="0.01 -0.19 0.04" rpy="0 0 0"/>
  </joint>
  <link name="start_point_196">
  </link>
  <joint name="hingejoint_21" type="continuous">
    <parent link="start_point_196"/>
    <child link="right_lower_arm [arm]"/>
    <axis xyz="1 0 0"/>
    <origin xyz="0 0 0" rpy="0.005751 0 0"/>
  </joint>
  <link name="right_lower_arm [arm]">
    <visual>
      <origin xyz="0.005 -0.0525 -0.0015" rpy="0 0 0"/>
      <geometry>
        <box size="0.05 0.155 0.057"/>
      </geometry>
    </visual>
    <collision>
      <origin xyz="0.005 -0.0525 -0.0015" rpy="0 0 0"/>
      <geometry>
        <box size="0.05 0.155 0.057"/>
      </geometry>
    </collision>
    <visual>
      <origin xyz="0.005 -0.1775 0.002" rpy="0 0 0"/>
      <geometry>
        <box size="0.05 0.095 0.08"/>
      </geometry>
    </visual>
    <collision>
      <origin xyz="0.005 -0.1775 0.002" rpy="0 0 0"/>
      <geometry>
        <box size="0.05 0.095 0.08"/>
      </geometry>
    </collision>
  </link>
  <link name="right_hand [hand]">
  </link>
  <joint name="right_lower_arm [arm]_right_hand [hand]_joint" type="fixed">
    <parent link="right_lower_arm [arm]"/>
    <child link="right_hand [hand]"/>
    <origin xyz="0 -0.225 0.014" rpy="0 0 0"/>
  </joint>
</robot>
